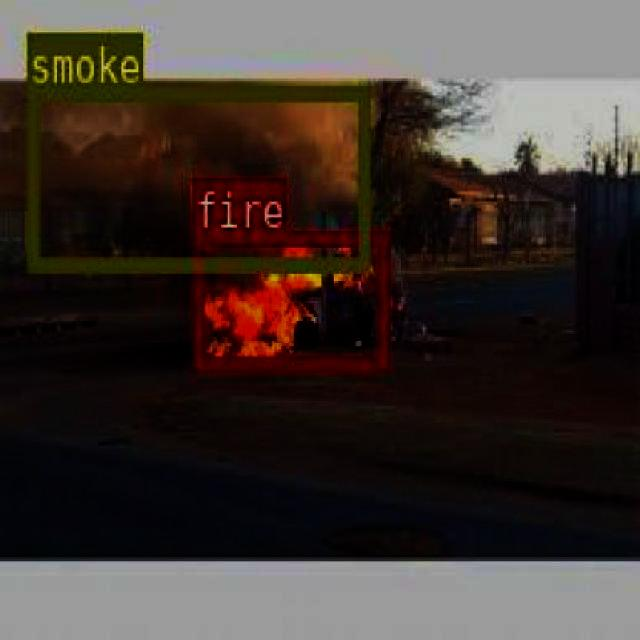fire: (191, 228, 386, 366)
smoke: (25, 83, 368, 268)
